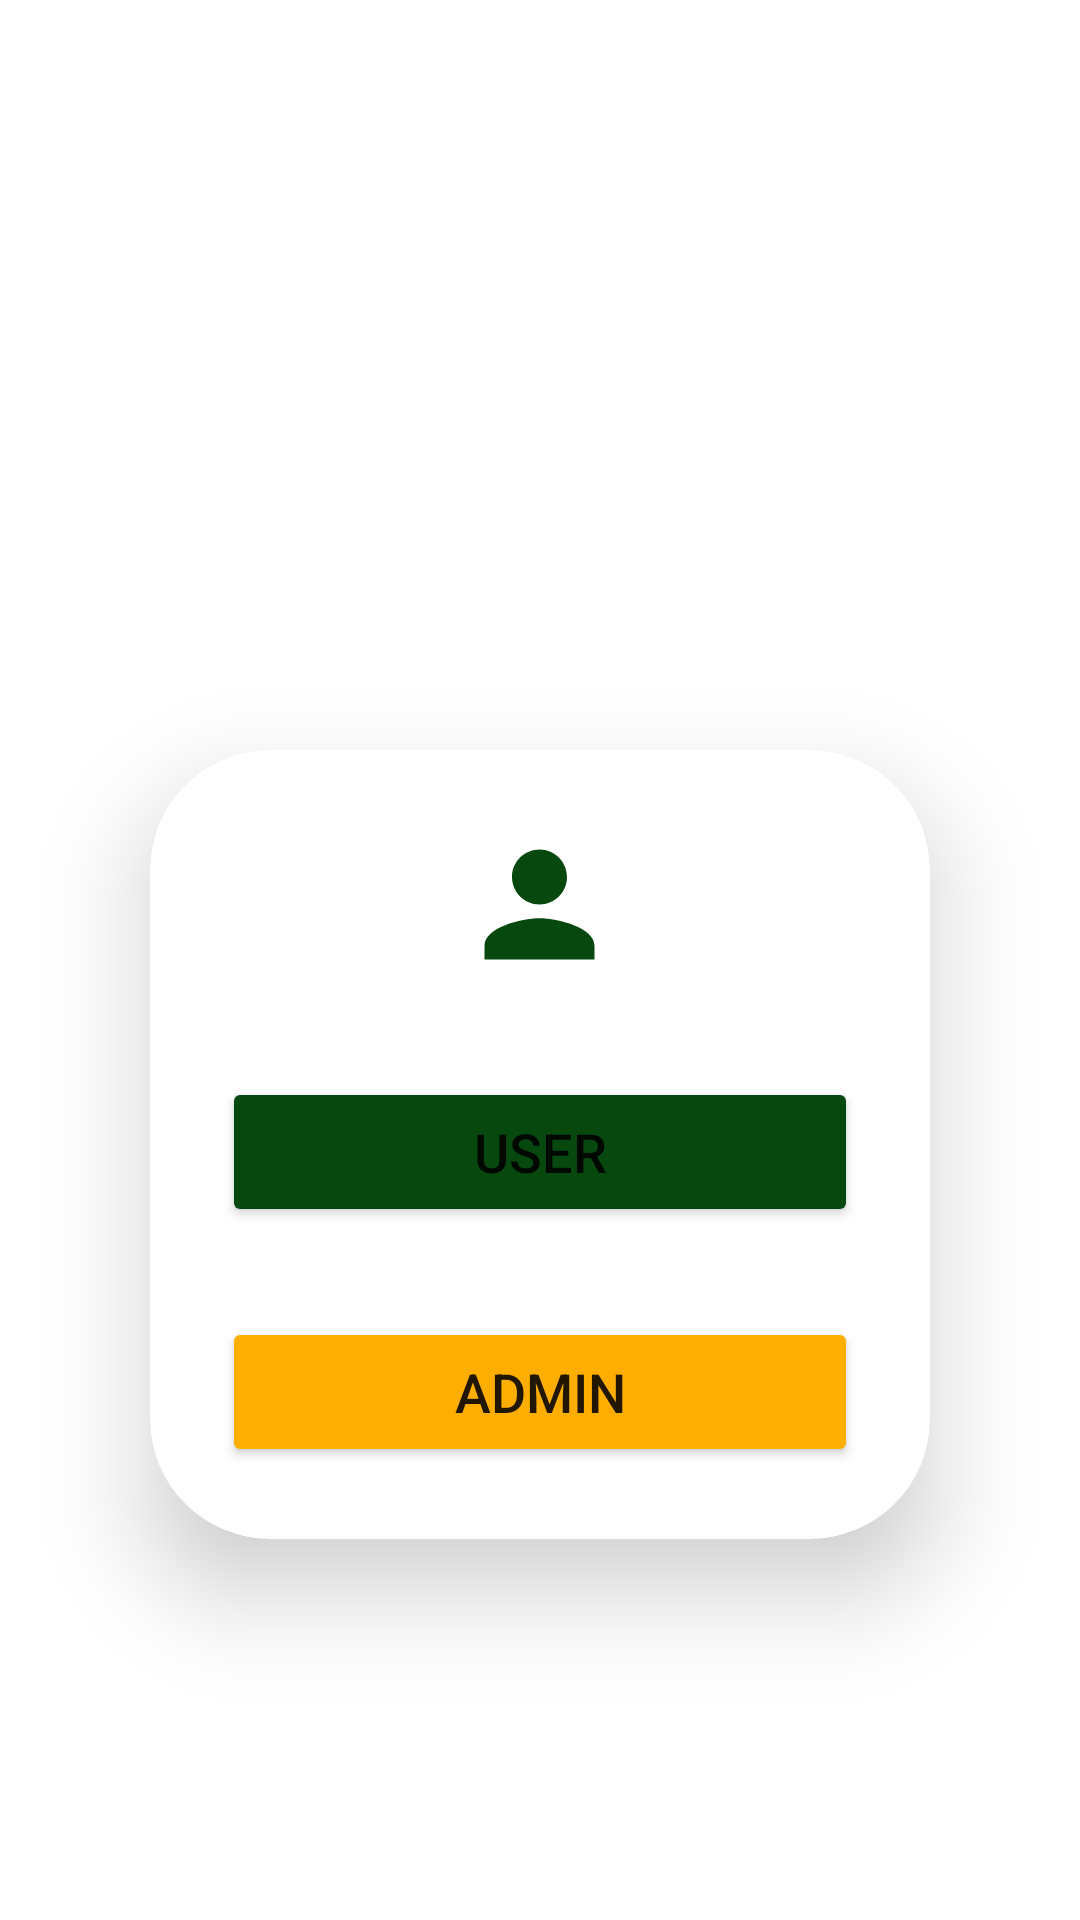

Point at icon controls on the screen. Image size 1080 x 1920, points as (x,y).
person: (539,904)
